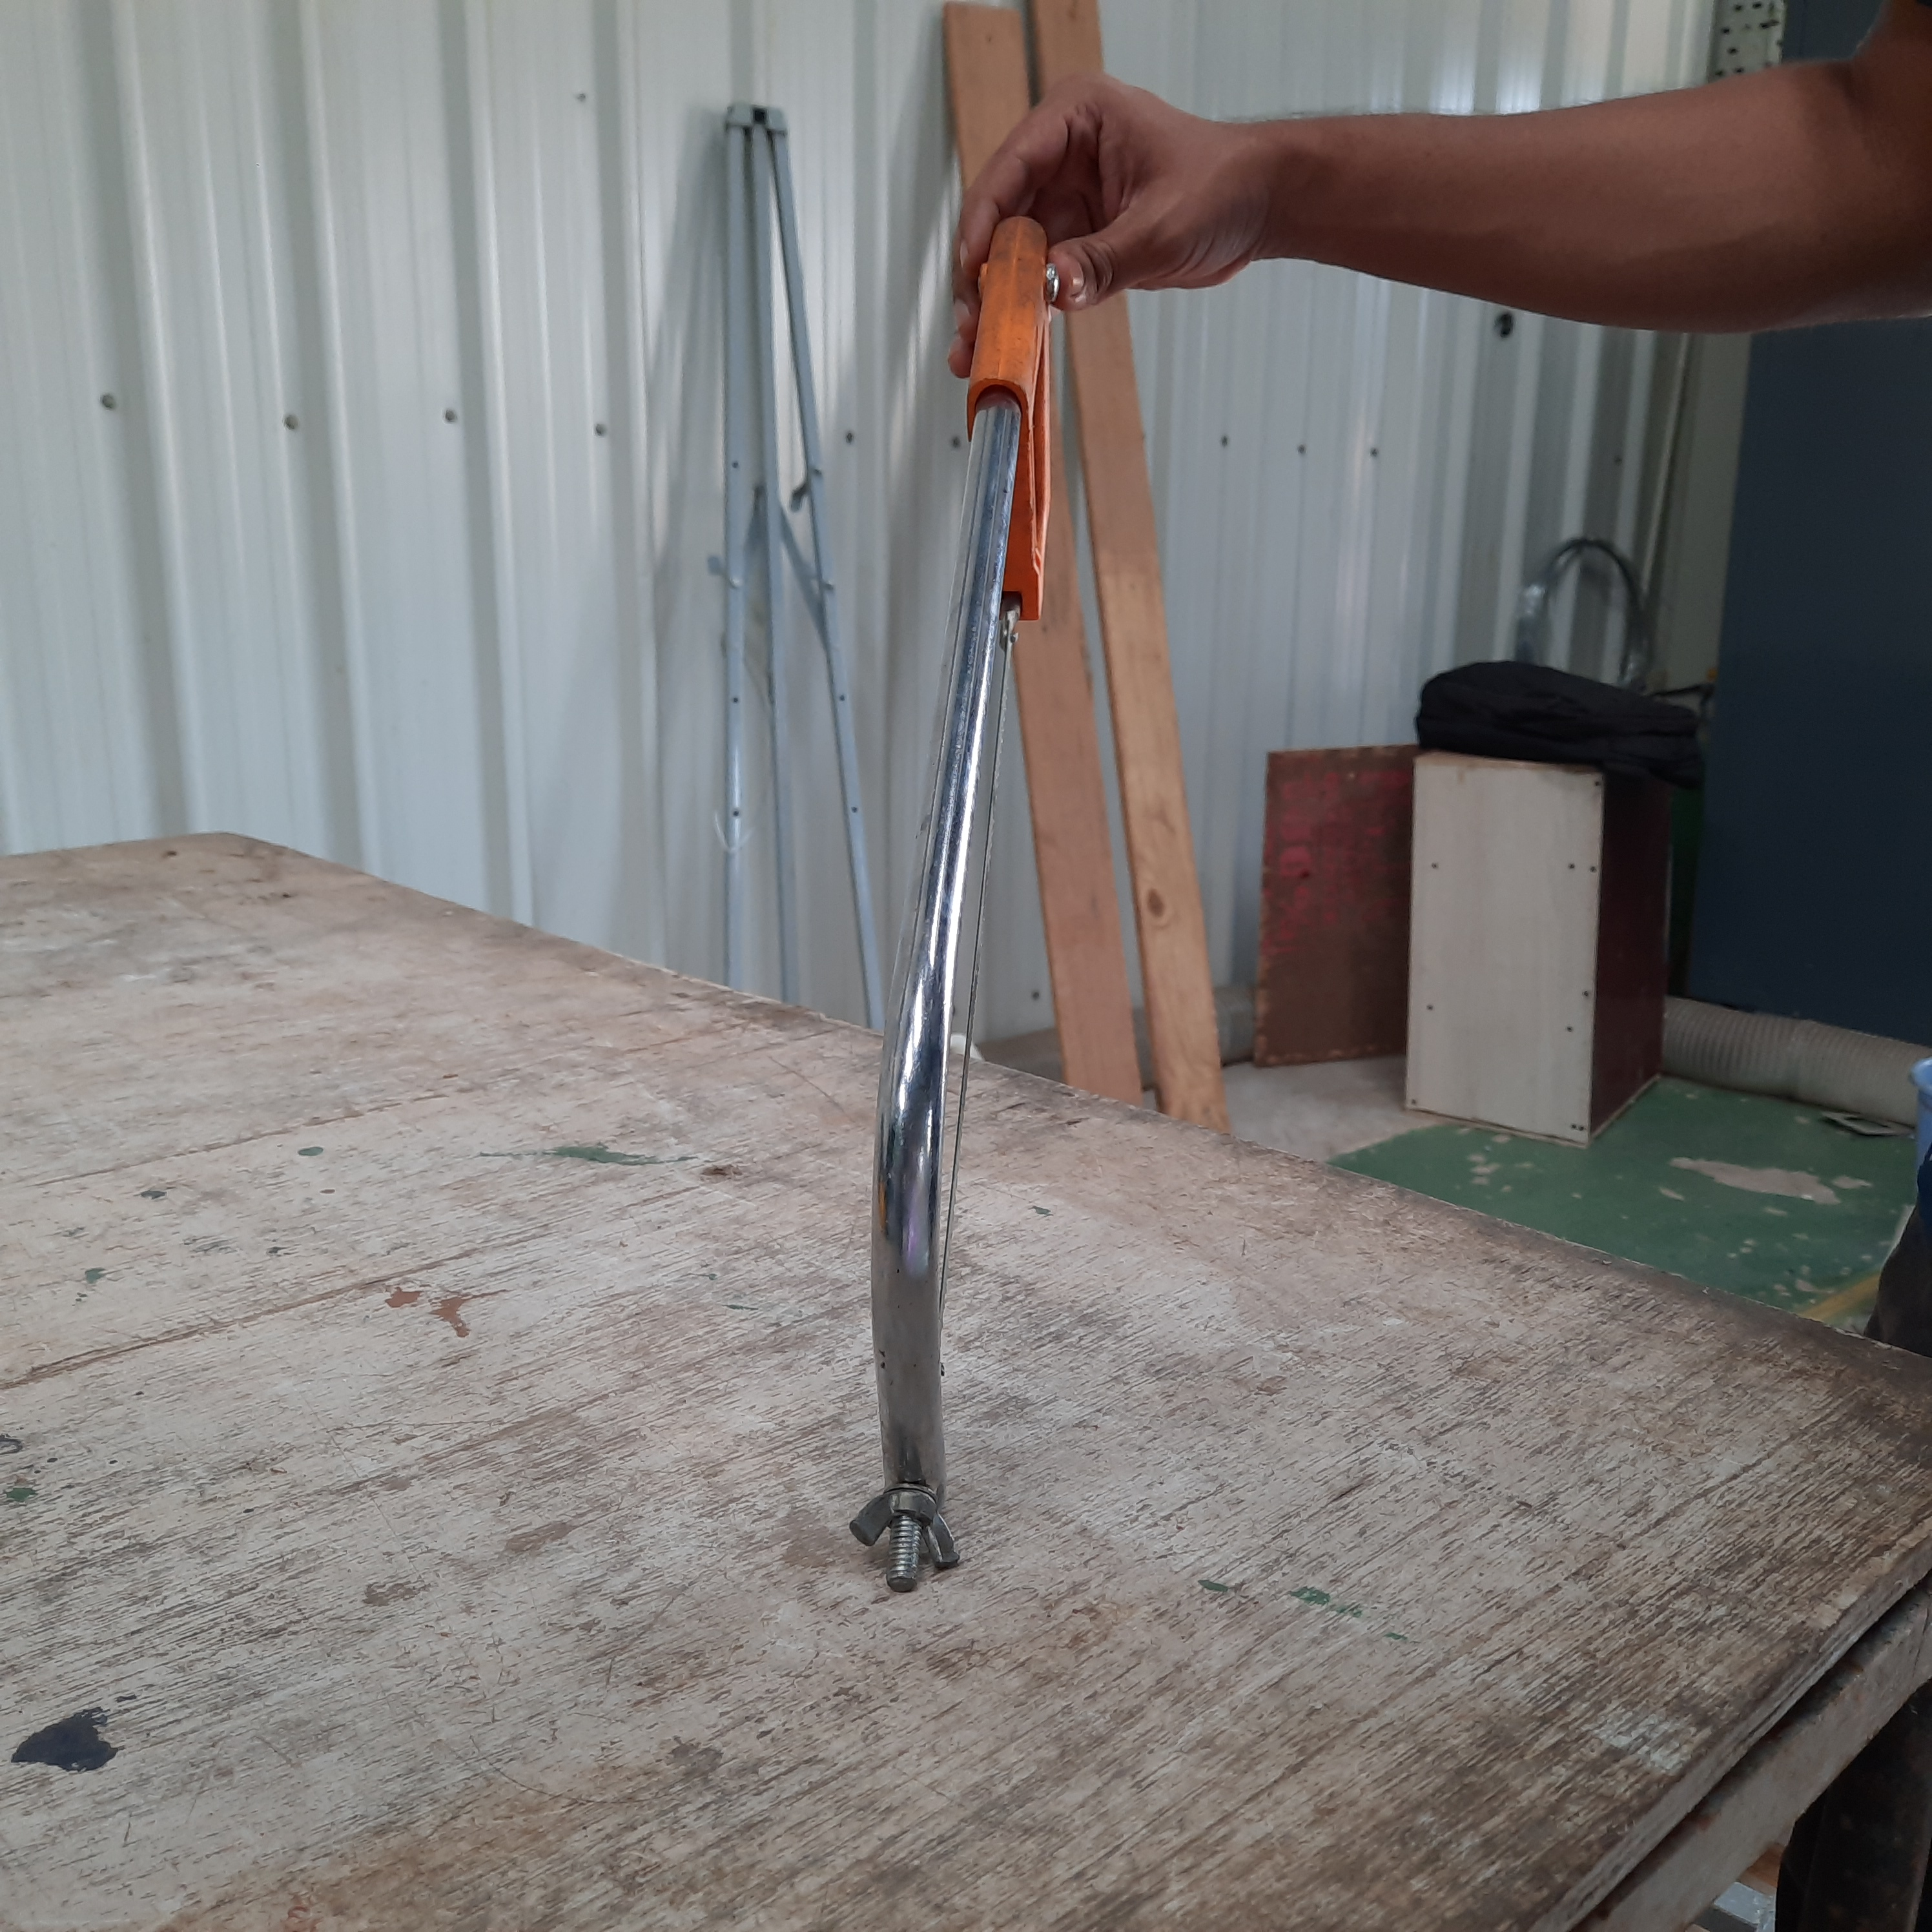Hexaframe: (814, 196, 1219, 1649)
